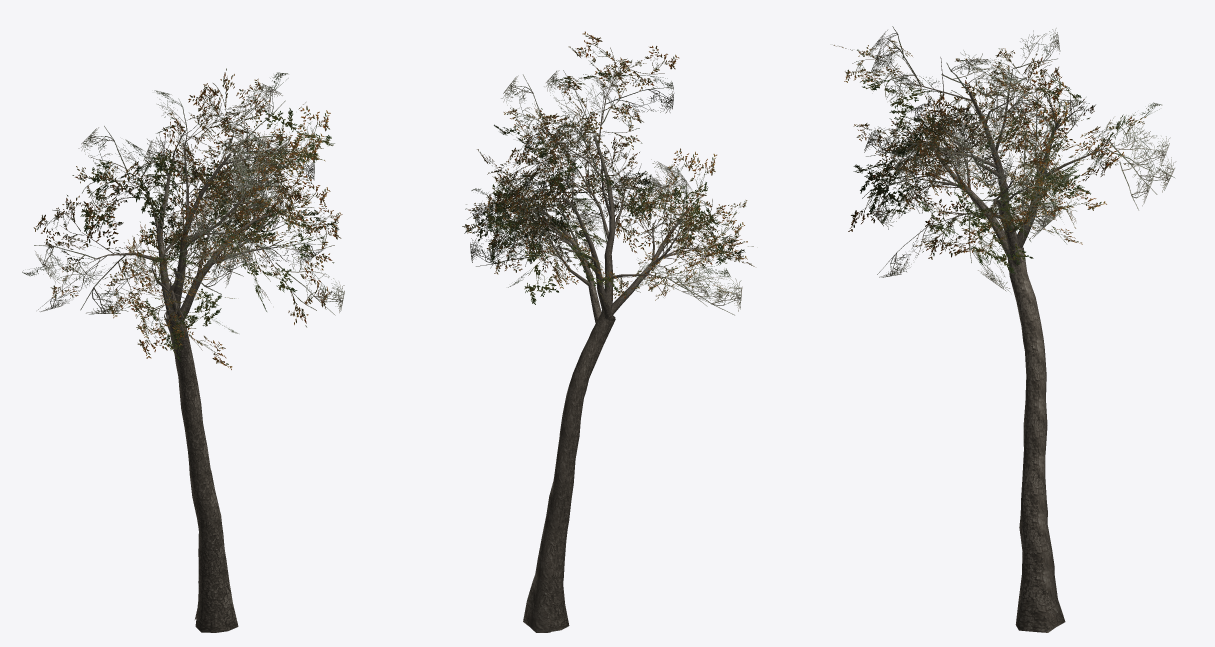
Rendered from tree_v6_decid_gothic_tall_autumn.glb.
3 renders of one model, left to right at view 1: azimuth 30°, elevation 25°; view 2: azimuth 150°, elevation 25°; view 3: azimuth 270°, elevation 25°, orthographic. The views are drawn at different scales.
Visible parts, largest first — view 1: tree_v6_decid_gothic_tall_autumn_LOD0; view 2: tree_v6_decid_gothic_tall_autumn_LOD0; view 3: tree_v6_decid_gothic_tall_autumn_LOD0.
Boxes of the visible parts, x1,y1,x2,y2 form: tree_v6_decid_gothic_tall_autumn_LOD0: (22,68,344,632); tree_v6_decid_gothic_tall_autumn_LOD0: (462,31,754,632); tree_v6_decid_gothic_tall_autumn_LOD0: (833,26,1176,632).
Size of what is drawn, in the model's own units: 8.41 by 14.9 by 8.57.
Materials: 1 (1 with a texture image).
